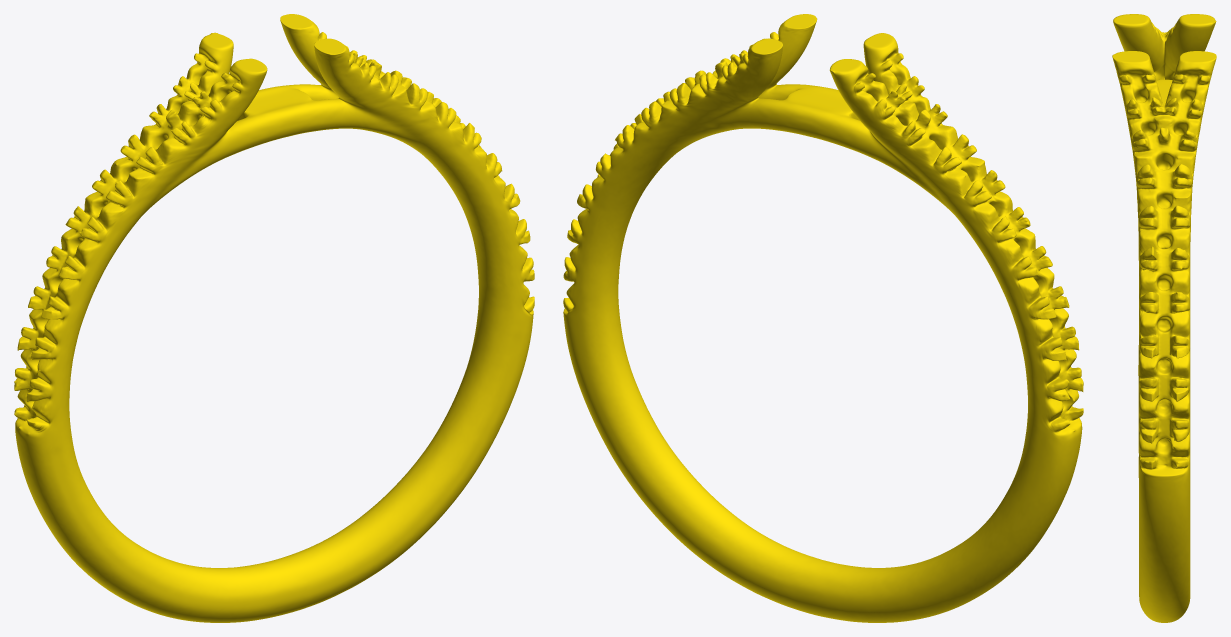
File: Shank_Split_French Pave_A_No, Hidden Halo_Band.glb
3 views of the same model, side by side, from view 1: azimuth 30°, elevation 25°; view 2: azimuth 150°, elevation 25°; view 3: azimuth 270°, elevation 25° (orthographic). The views are drawn at different scales.
Size of the model in its own units: 0.021 by 0.0225 by 0.00382.
